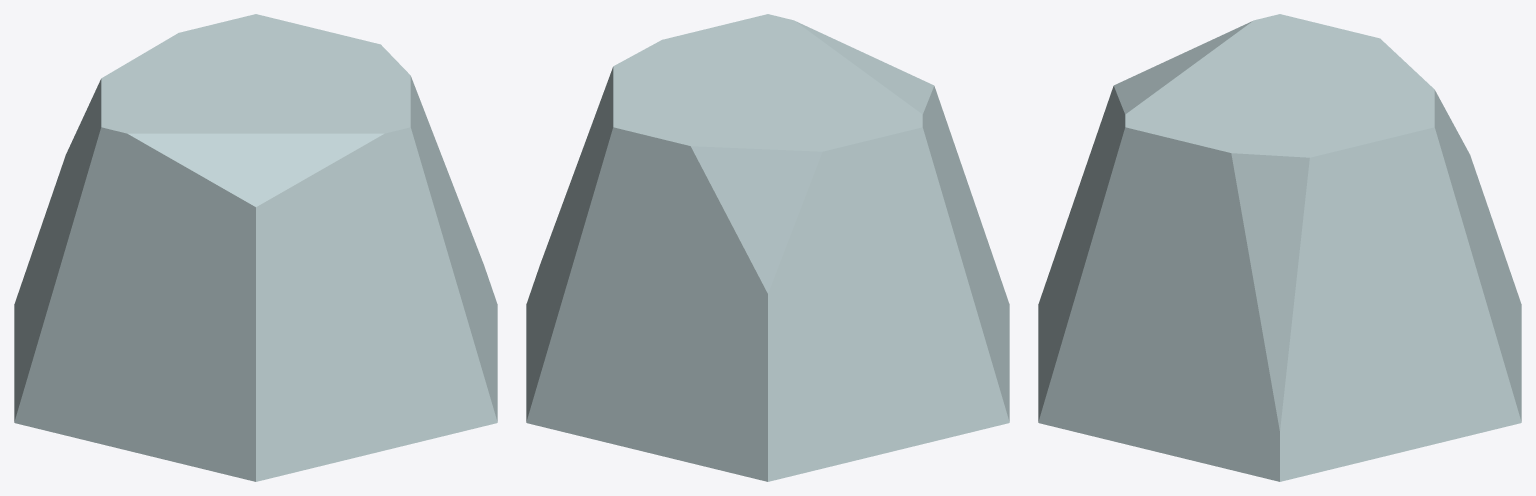
The model's file is stone_smallD.glb.
3 views of the same model, side by side, from view 1: azimuth 30°, elevation 25°; view 2: azimuth 150°, elevation 25°; view 3: azimuth 270°, elevation 25° (orthographic).
Visible parts, largest first — view 1: stone_smallD; view 2: stone_smallD; view 3: stone_smallD.
Boxes of the visible parts, x1,y1,x2,y2 form: stone_smallD: (14, 14, 497, 481); stone_smallD: (526, 14, 1009, 481); stone_smallD: (1038, 14, 1521, 481).
Bounding box in the file's own units: 0.4257 × 0.2309 × 0.3687.
